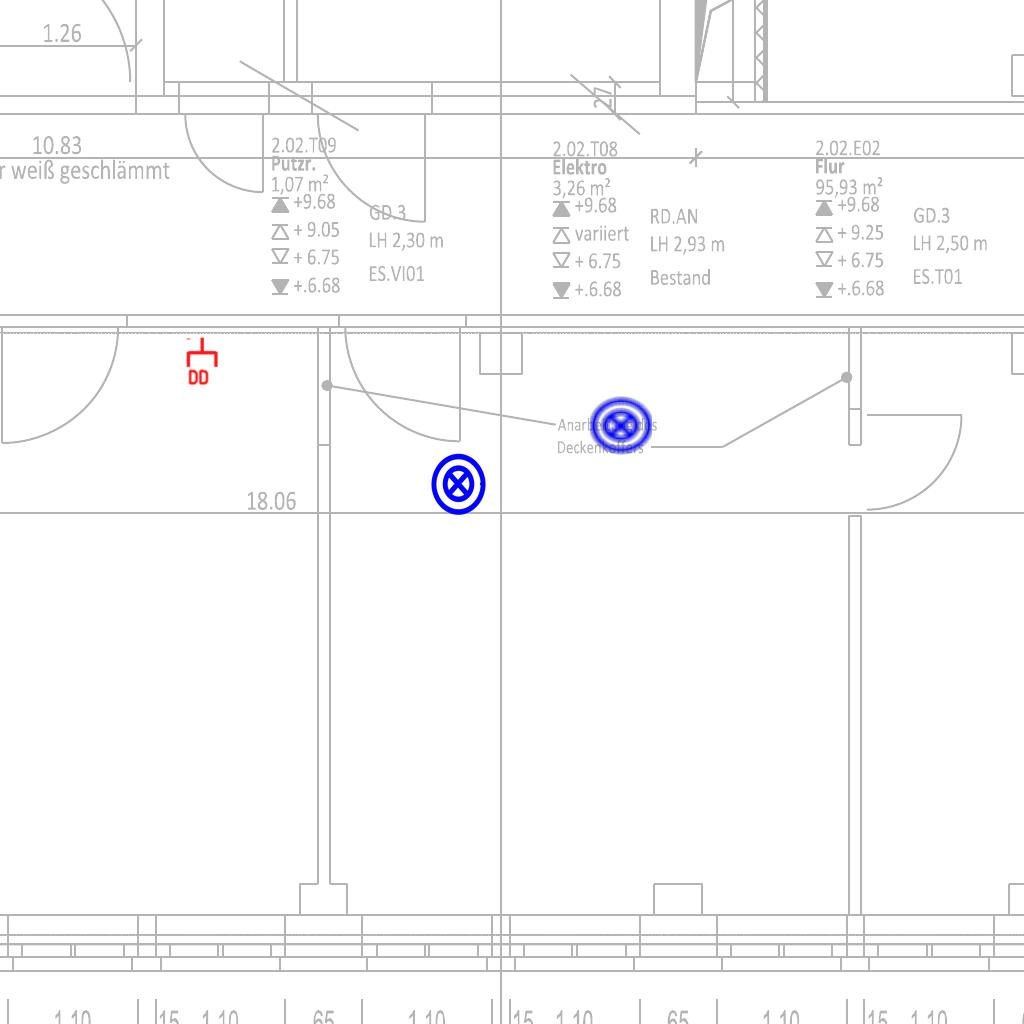Datenanschluss_zweifach: (186, 336, 220, 387)
Taster_beleuchtet: (588, 393, 654, 459), (425, 451, 491, 517)
